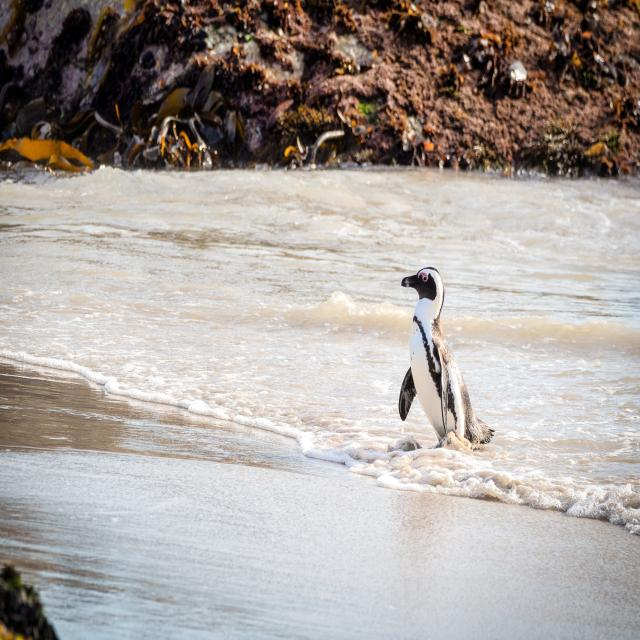Penguins: (393, 255, 494, 499)
